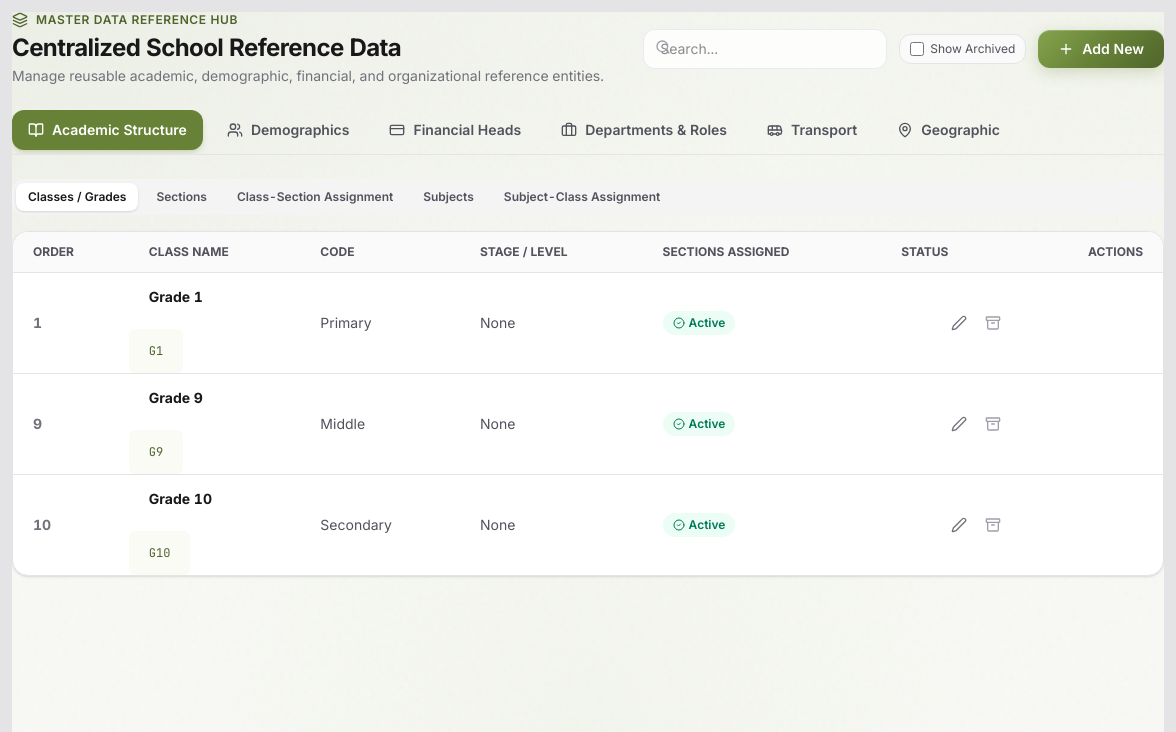
Test: MasterData Search and Filtering Unit Tests › includes archived records when toggle is checked
Step 1. Click the checkbox labelled "Show Archived" → [917, 49], box [910,42,924,56]
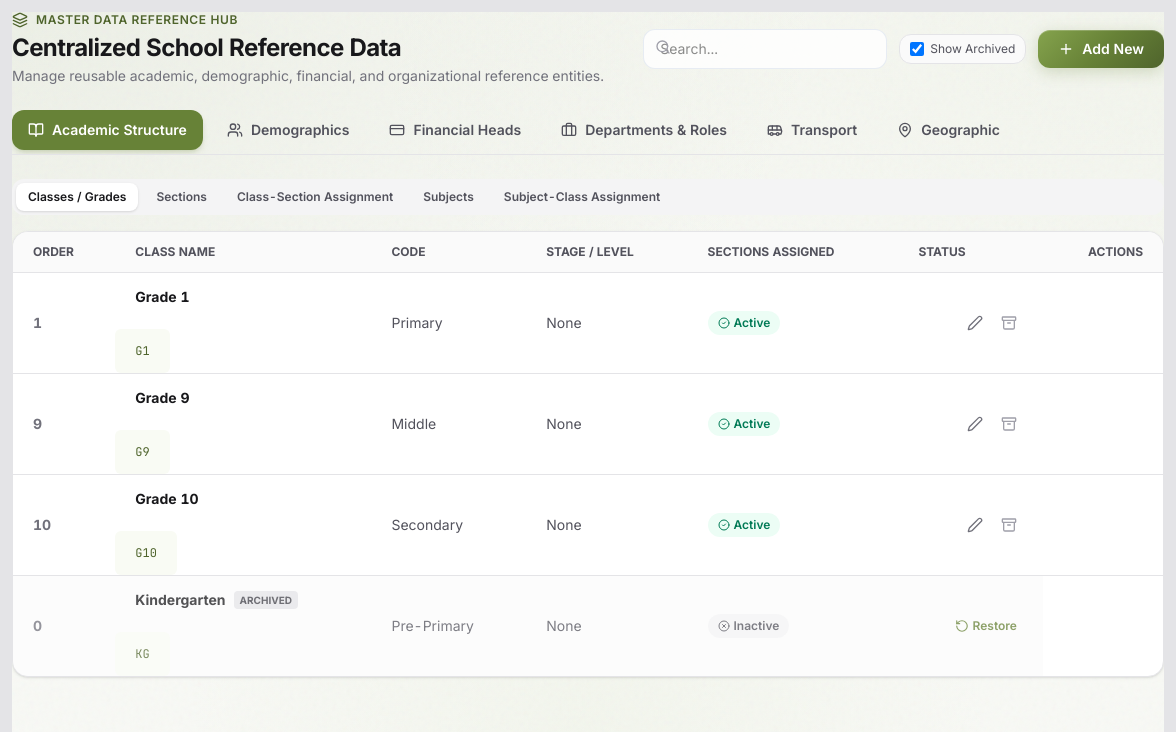
Check: the text "Kindergarten" is shown, box [135,590,226,610]
